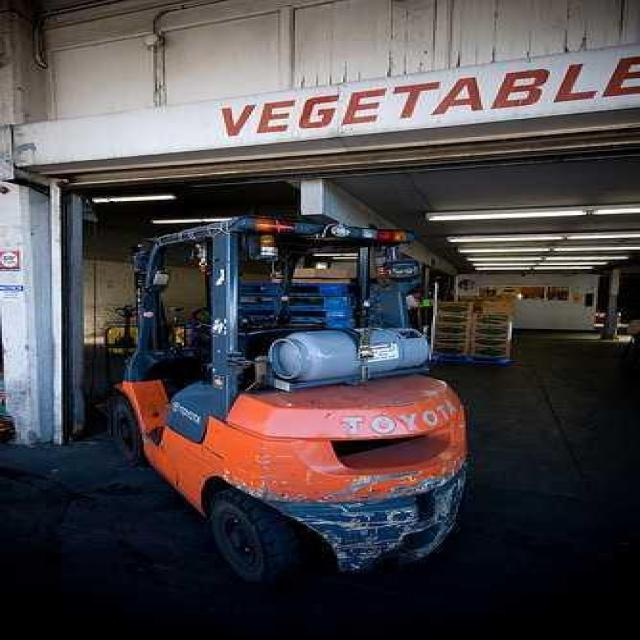Chariot elevateur: (103, 213, 485, 590)
